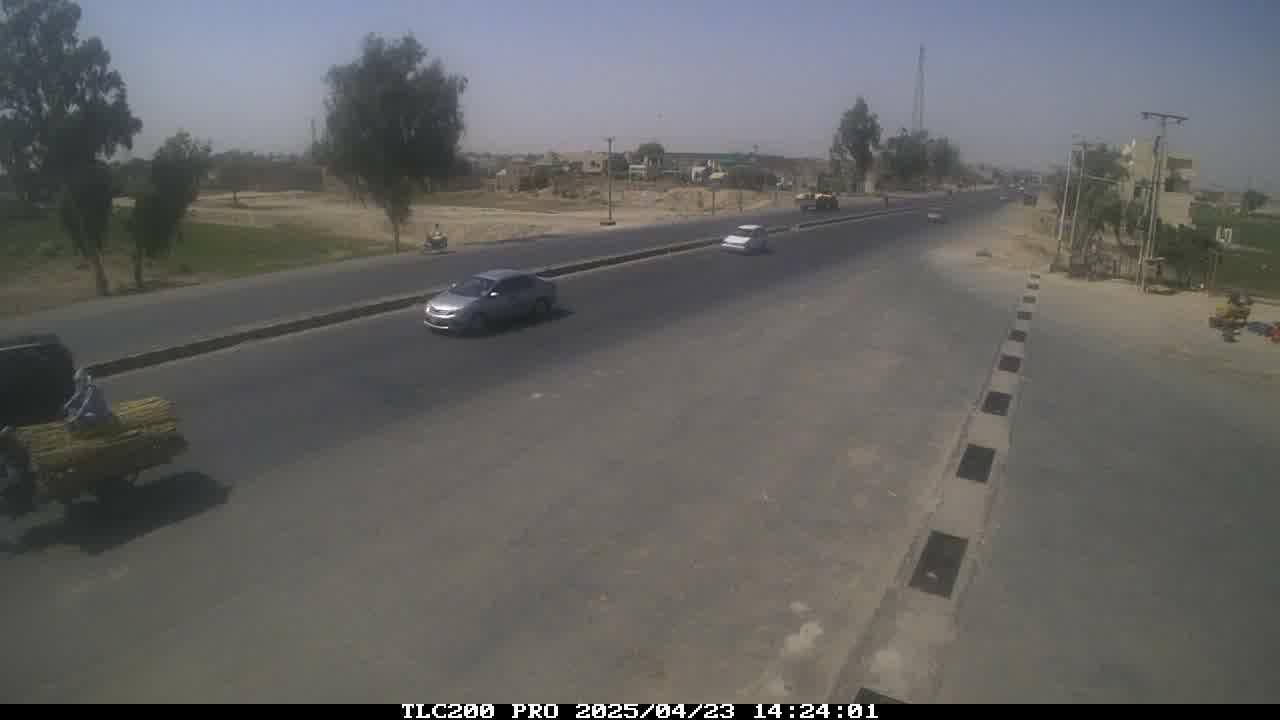car: (423, 262, 568, 343), (719, 215, 779, 259)
